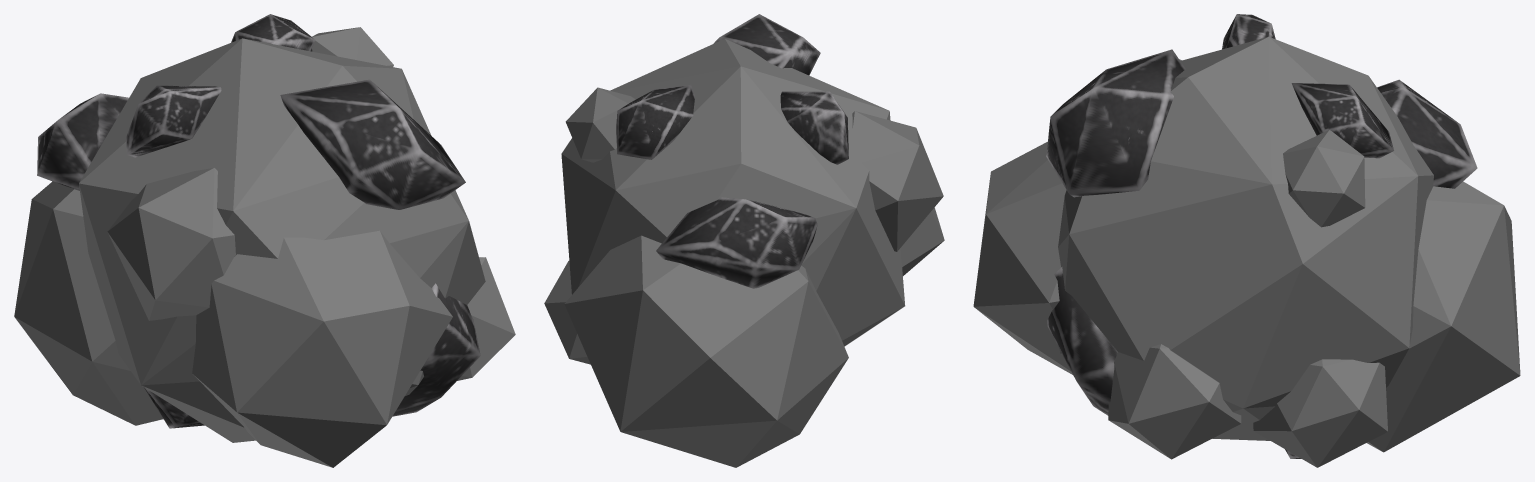
Rendered from LavastoneOre_blender.fbx.
The picture shows the model from 3 angles, left to right: view 1: azimuth 30°, elevation 25°; view 2: azimuth 150°, elevation 25°; view 3: azimuth 270°, elevation 25°; orthographic projection. The views are drawn at different scales.
Parts seen in each view (by area): view 1: StoneOre.036, LavastoneParticle.065; view 2: StoneOre.036, LavastoneParticle.065; view 3: StoneOre.036, LavastoneParticle.065.
Part boxes in pixels (x1,y1,x2,y2): StoneOre.036: (14,27,515,467); LavastoneParticle.065: (37,14,480,428); StoneOre.036: (544,39,944,467); LavastoneParticle.065: (616,14,848,288); StoneOre.036: (973,36,1520,467); LavastoneParticle.065: (1046,14,1477,458).
Size of the model in its own units: 211 by 227 by 274.
